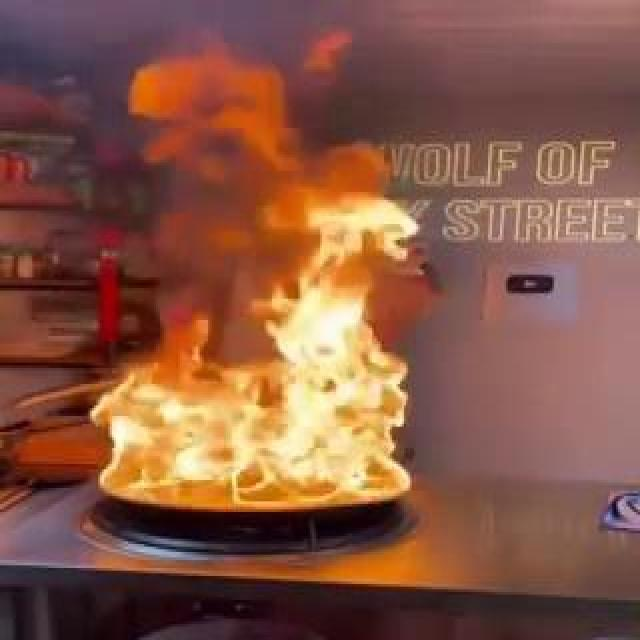Fire: (60, 152, 418, 517)
